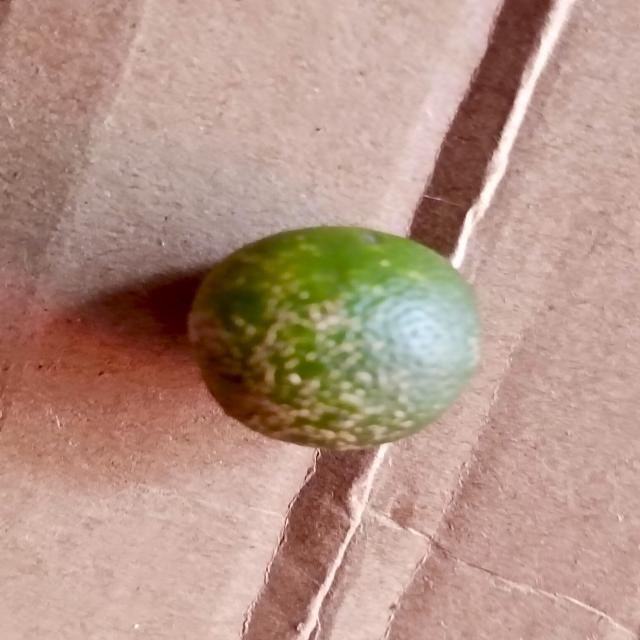scab: (187, 222, 481, 450)
